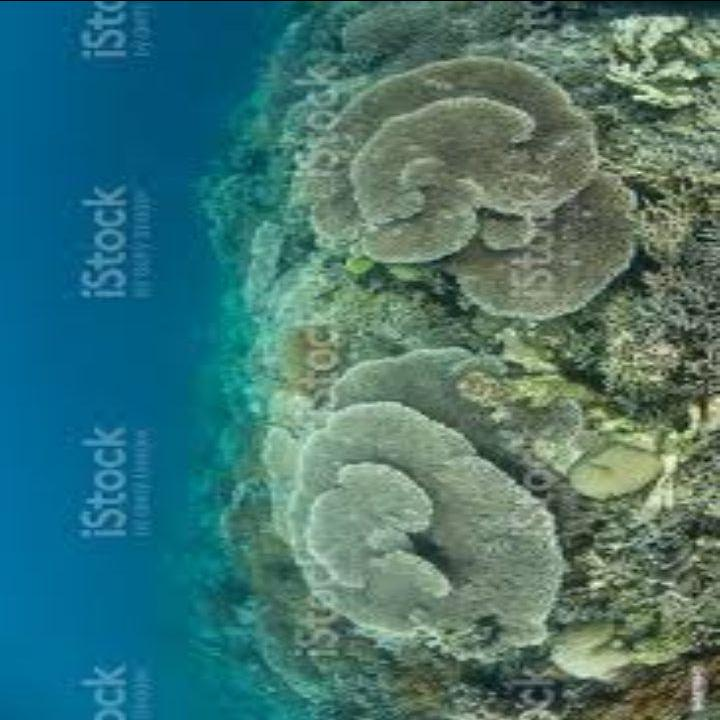Healthy Coral: (233, 18, 677, 693)
